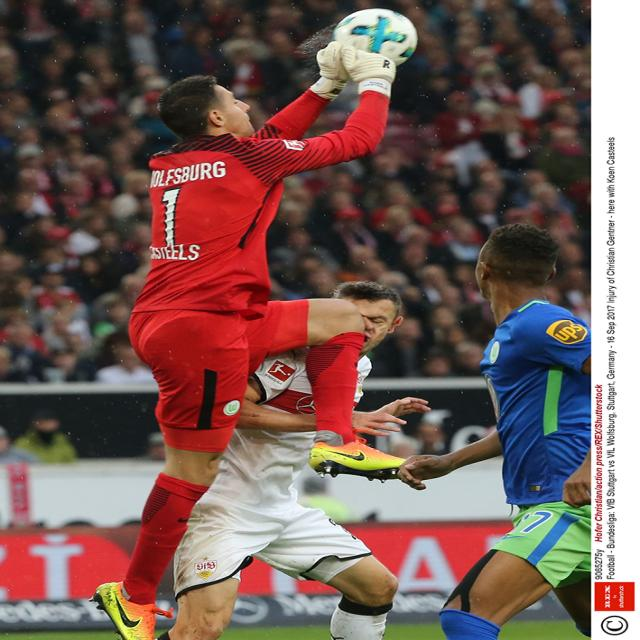collide: (201, 371, 317, 431), (307, 295, 362, 347)
hurt: (334, 284, 397, 352)
red_card: (105, 0, 411, 524)
